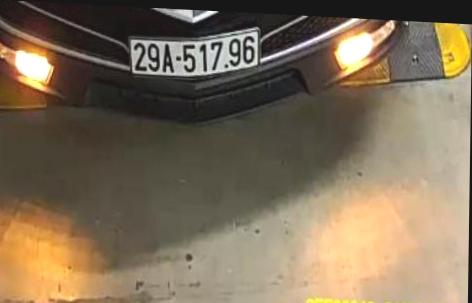License_Plate: (125, 27, 262, 84)
